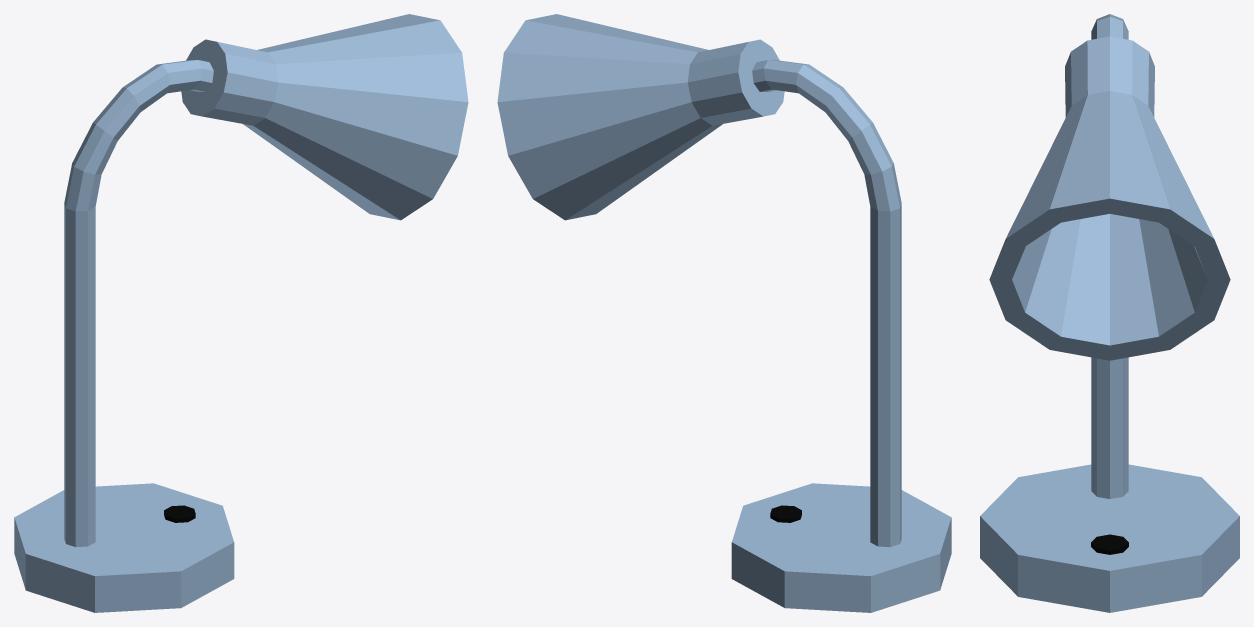
Rendered from Lamp_Blue.fbx.
The picture shows the model from 3 angles, left to right: view 1: azimuth 30°, elevation 25°; view 2: azimuth 150°, elevation 25°; view 3: azimuth 270°, elevation 25°; orthographic projection. The views are drawn at different scales.
Visible parts, largest first — view 1: Lamp.003; view 2: Lamp.003; view 3: Lamp.003.
Boxes of the visible parts, x1=… form: Lamp.003: x1=14, y1=14, x2=468, y2=612; Lamp.003: x1=497, y1=14, x2=951, y2=612; Lamp.003: x1=980, y1=14, x2=1239, y2=612.
Bounding box in the file's own units: 29.47 × 34.09 × 14.
